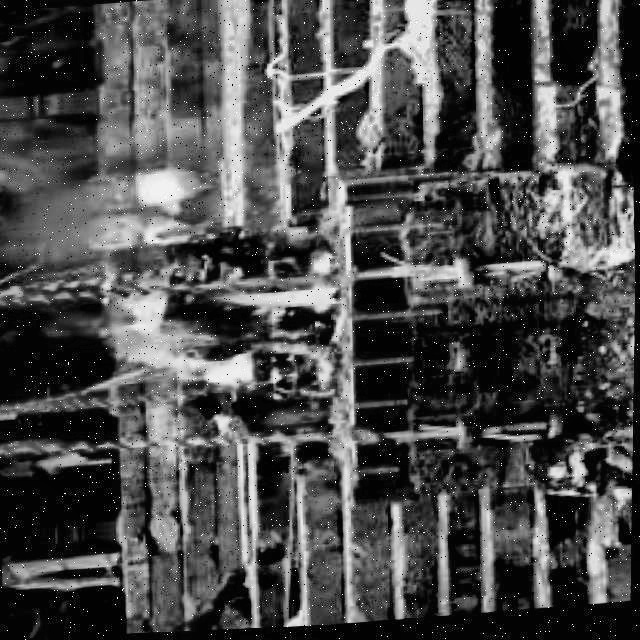Fire: (68, 271, 341, 403)
